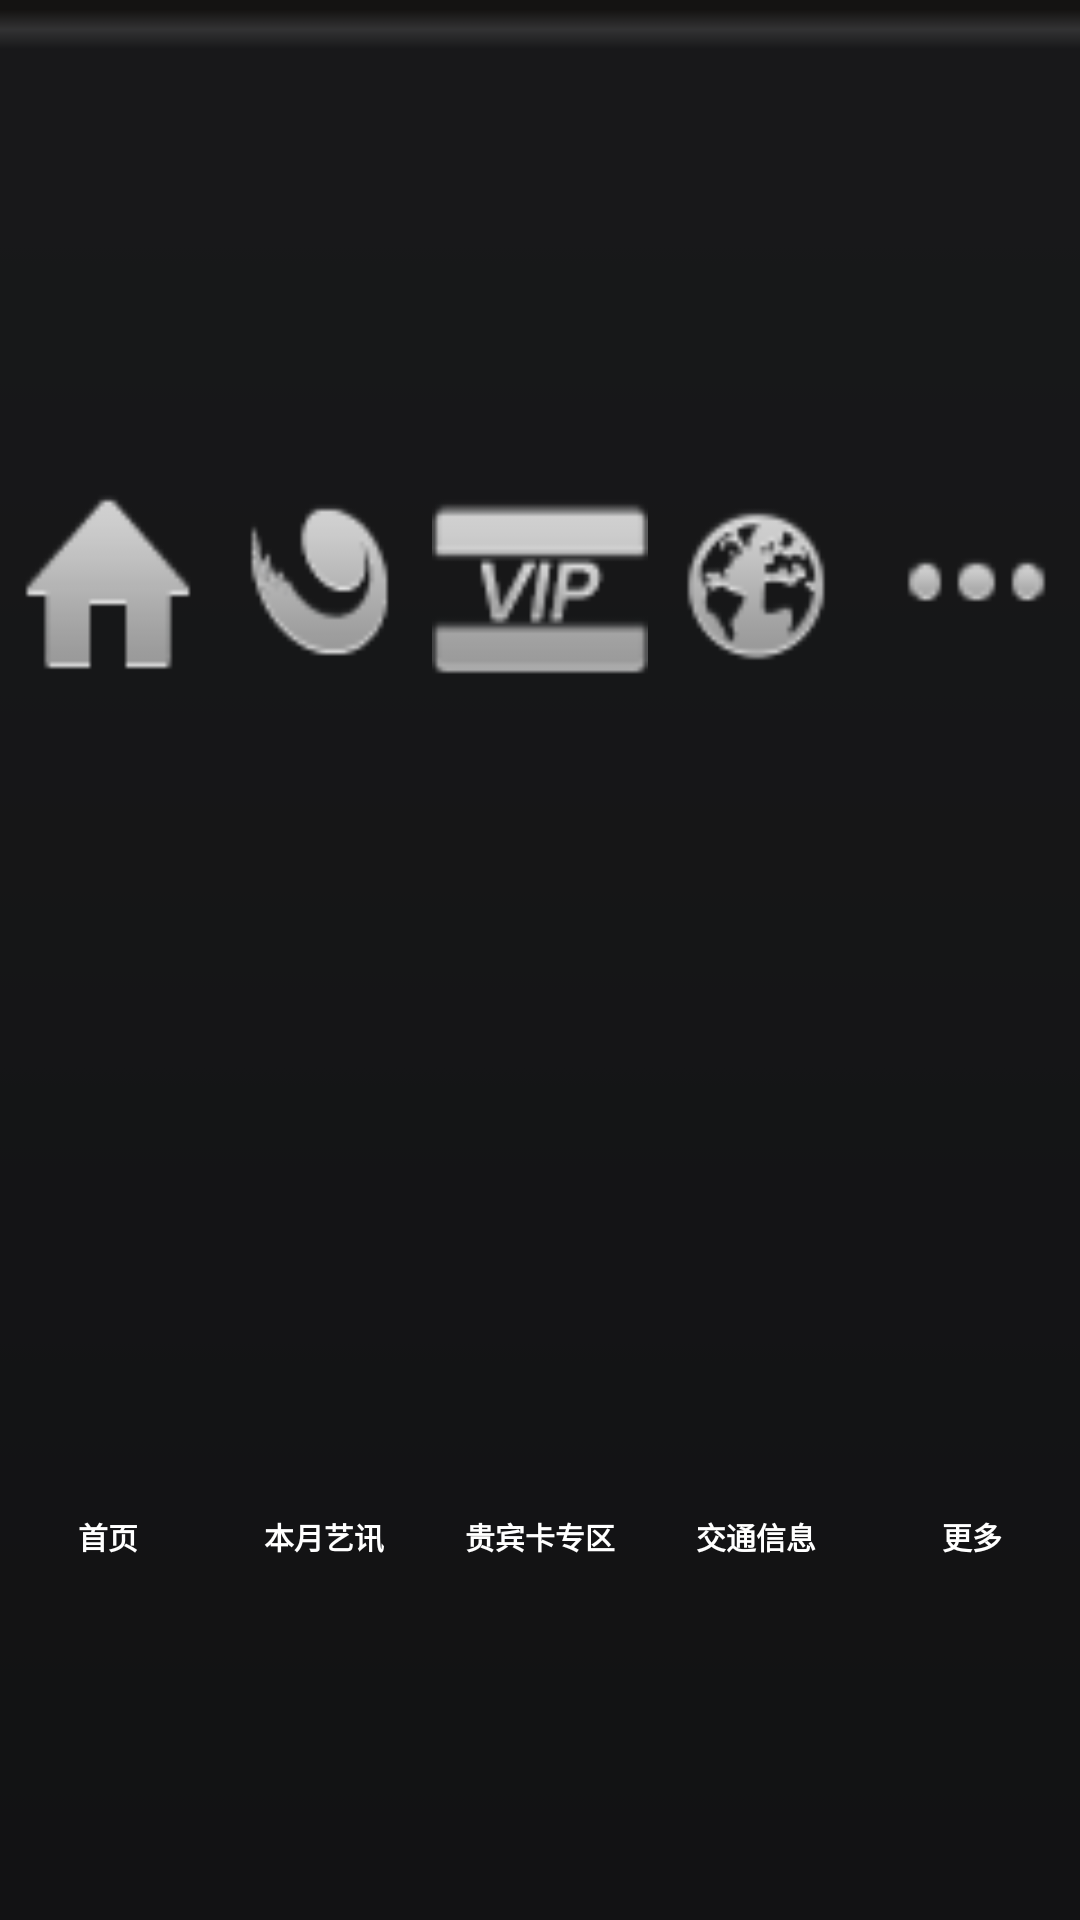

Named icons in this screenshot (1080x1920) and their bounding boxes, (x1, y1, x2, y2):
home: (25, 499, 191, 669)
map: (687, 512, 825, 660)
more: (907, 562, 1046, 602)
